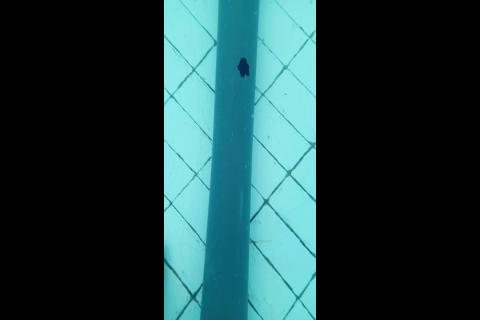kebocoran: (237, 56, 250, 78)
